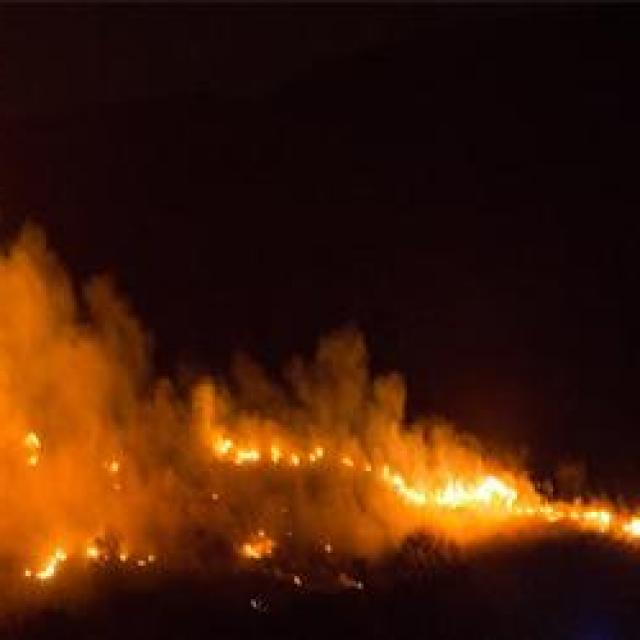fire: (402, 476, 511, 509)
smoke: (0, 224, 141, 428), (287, 329, 406, 445), (0, 461, 92, 542), (355, 432, 491, 468)
